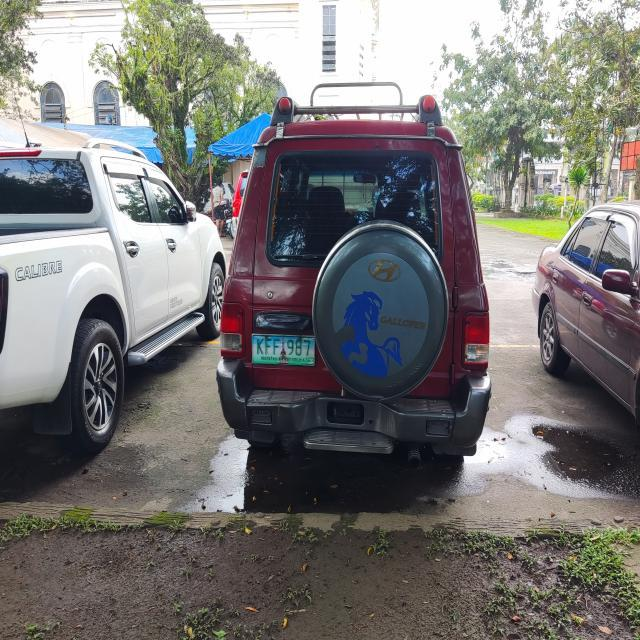LicensePlate: (243, 328, 325, 376)
